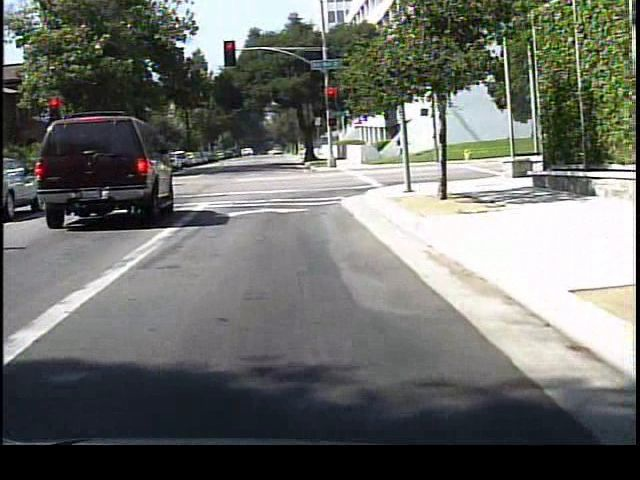person: (393, 127, 413, 167)
